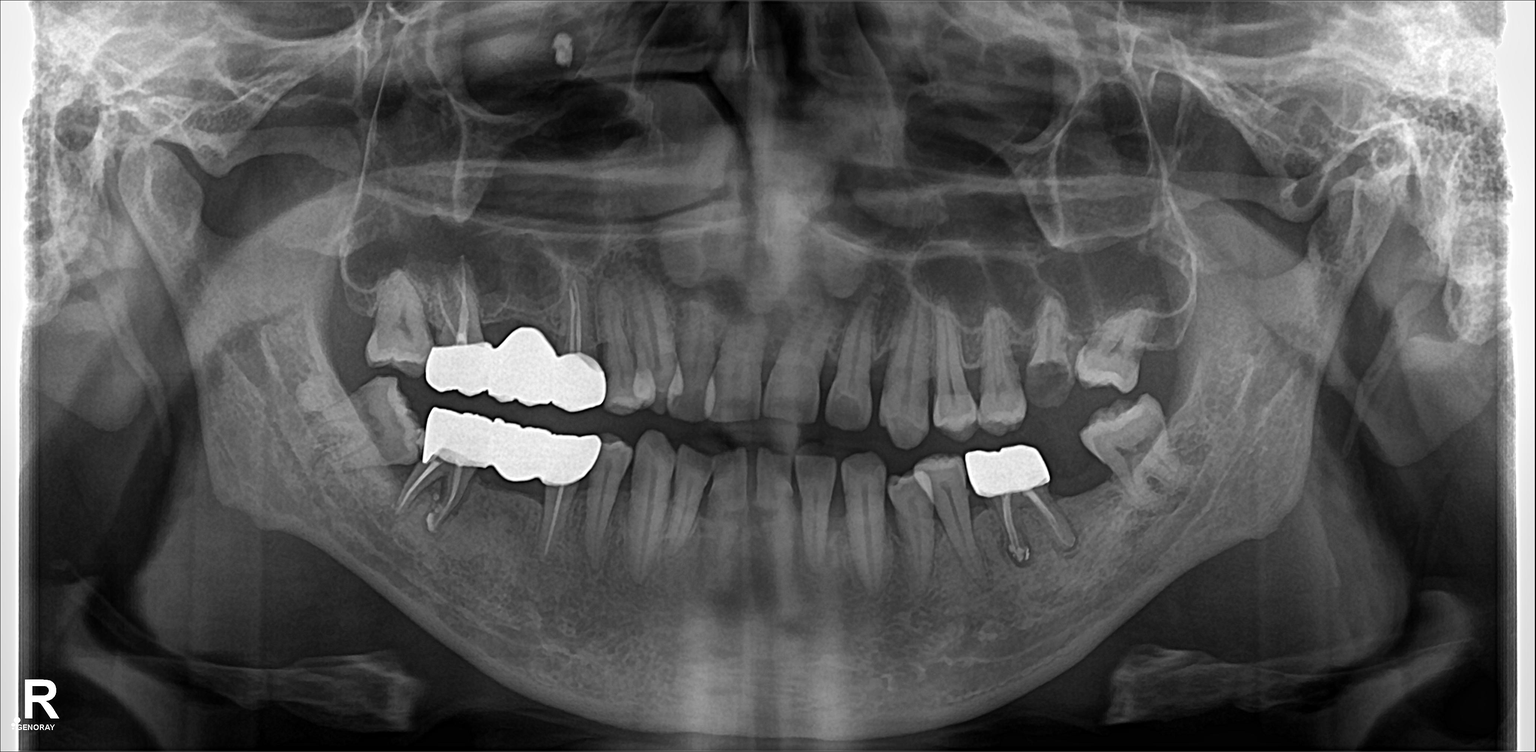Dental Caries: (1017, 363, 1073, 410), (826, 391, 863, 423)
Endodontically Treated Tooth: (976, 447, 1065, 569), (488, 277, 548, 401), (550, 287, 602, 410), (425, 406, 475, 530), (480, 426, 536, 523), (538, 443, 588, 551), (436, 281, 483, 384)
Impacted Third Molar: (317, 393, 423, 472)
Missing Tooth: (1047, 449, 1111, 539), (328, 261, 375, 349), (1149, 315, 1184, 398)
